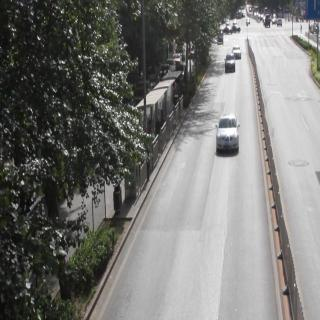Car: (213, 108, 242, 160), (224, 50, 235, 77), (232, 40, 242, 59)
